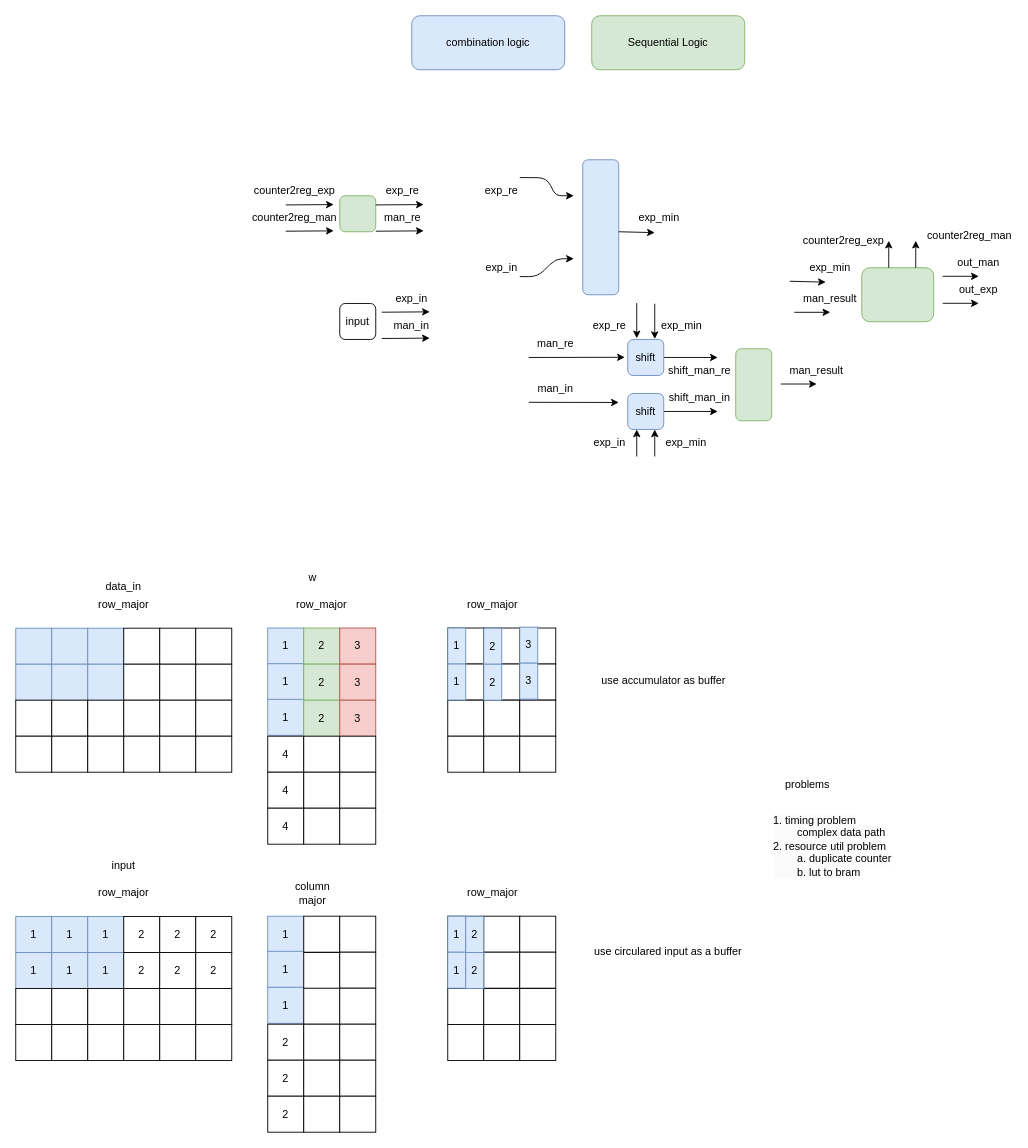
Image size: 1028x1148. Some labels were removed from this diagram. Each missing label, with the centre of its shape:
add: pixel 753 384
compare: pixel 600 227
counter: pixel 897 294
register: pixel 357 213
